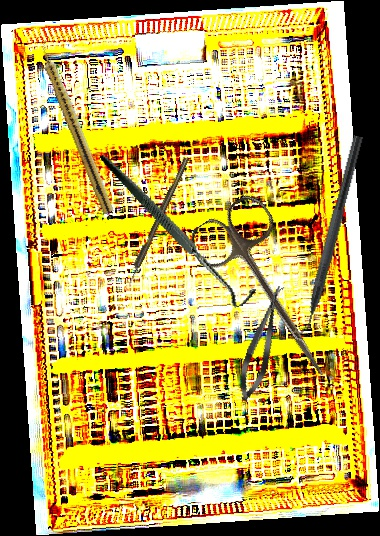Chopper: (287, 131, 364, 345)
Handpiece: (34, 38, 118, 215)
Hook Surgical: (99, 124, 260, 333), (124, 157, 191, 286)
Iris Scissors: (182, 189, 362, 397)
Micro Scissor: (232, 282, 292, 404)
